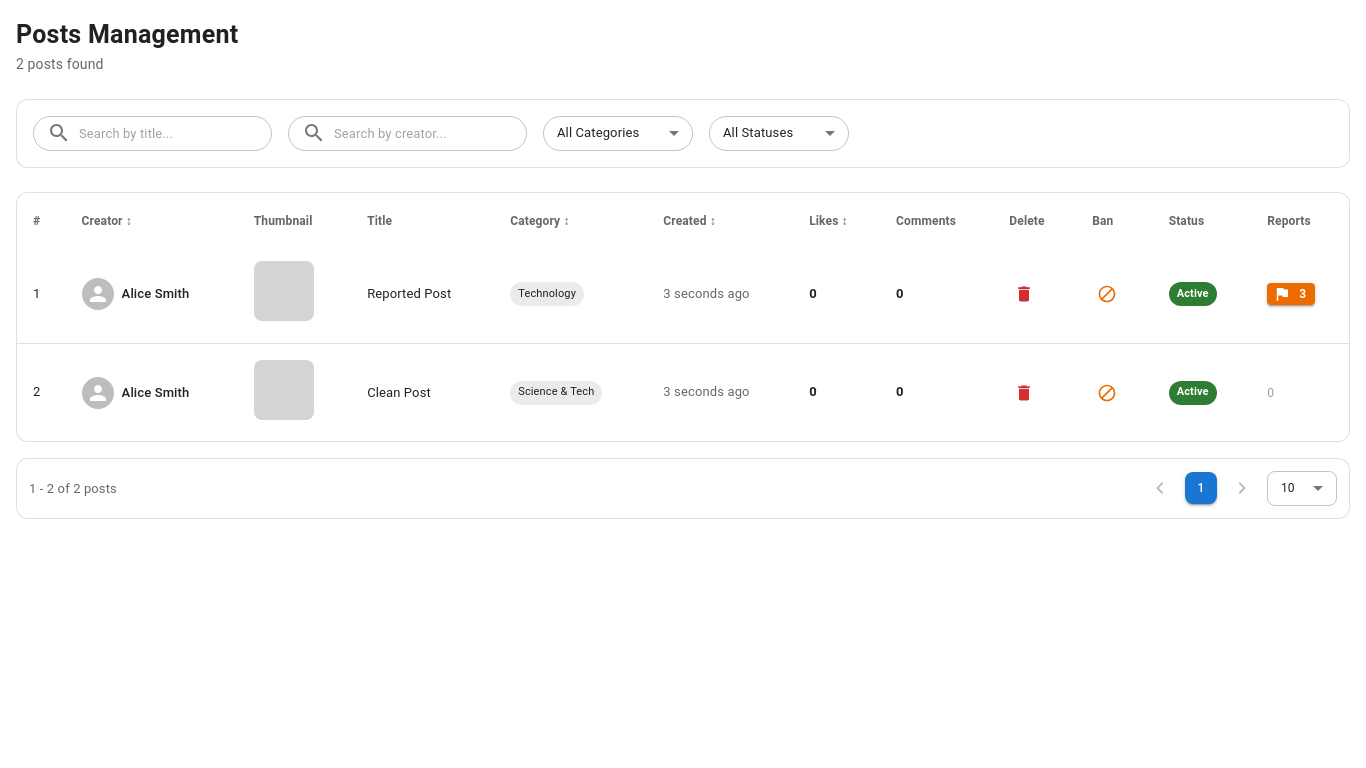
Test: AdminCardsPanel — Reports column › shows error state when getCardReports rejects
Click the button named "view 3 reporters". click: [1291, 294]
box: [1267,283,1314,305]
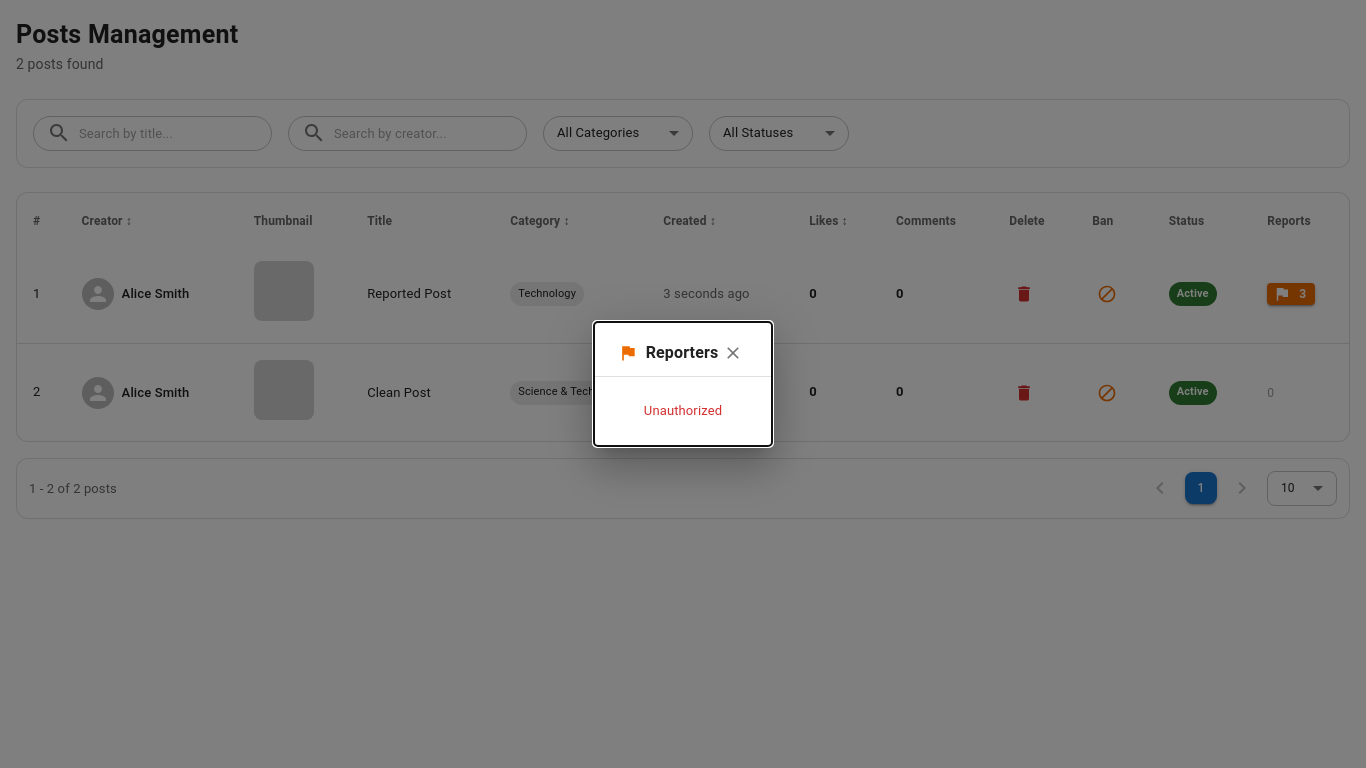
expect the text "Unauthorized" is shown: met, box [644,403,722,418]
